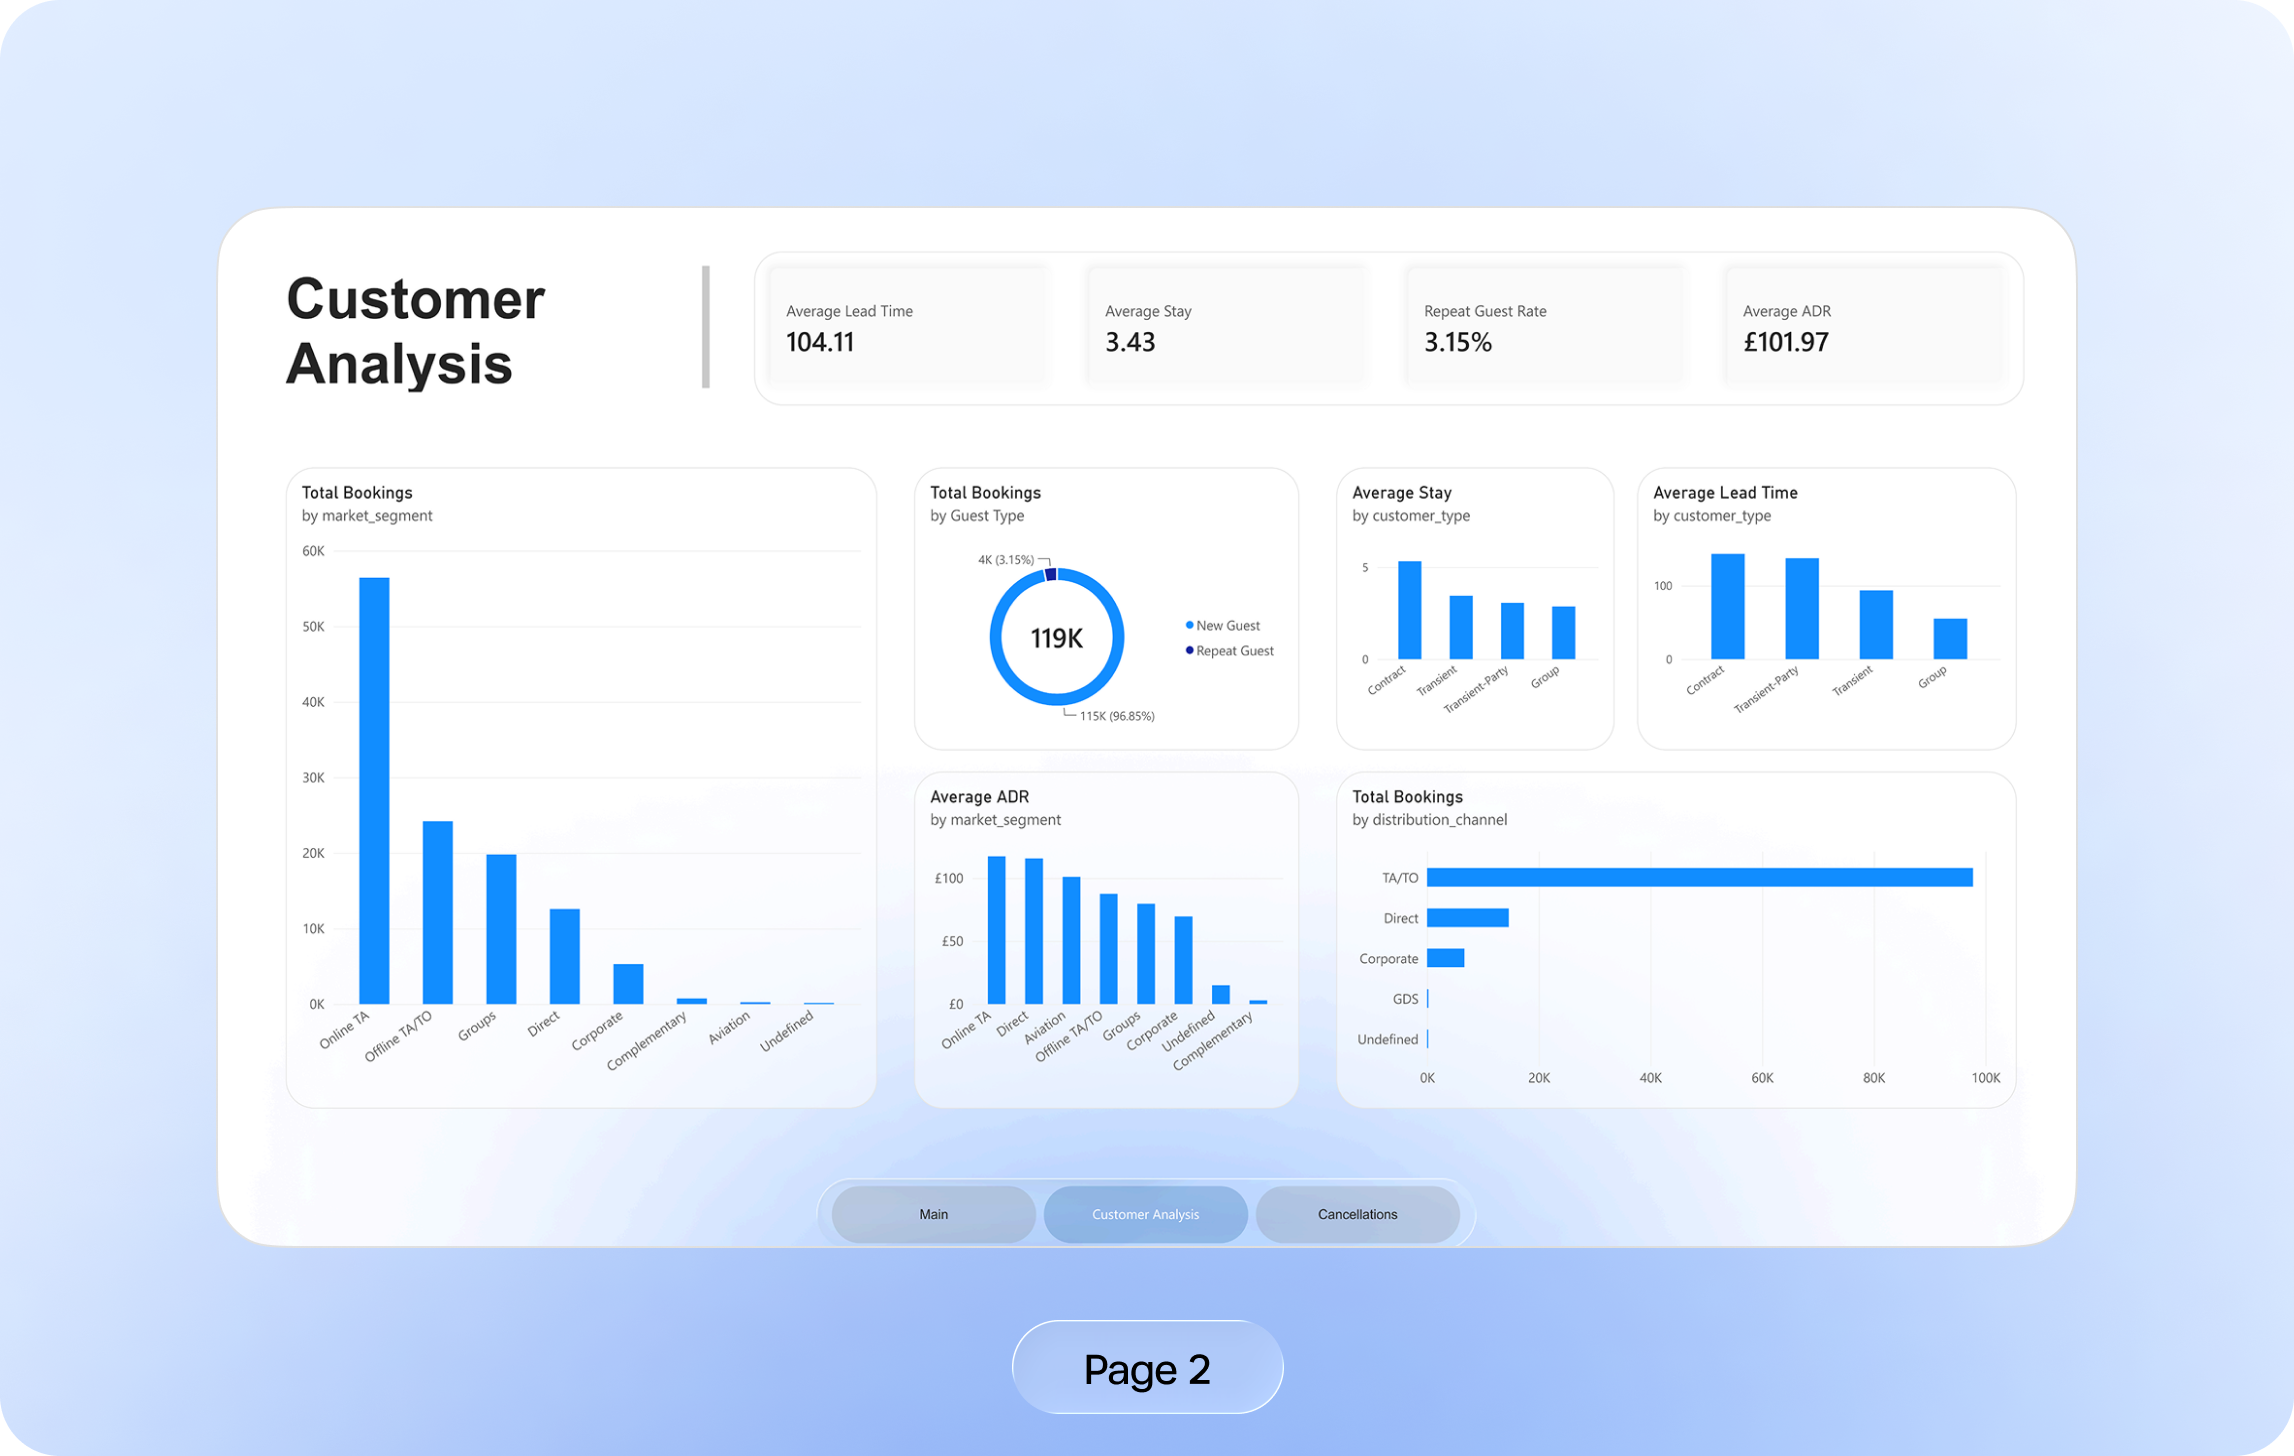

The page's visual inventory and layout, read from the dashboard file:
{"tool":"powerbi","page":{"name":"Customer Analysis","canvas":[1920,1080],"ordinal":1},"visuals":[{"type":"cardVisual","fields":{"Data":["public vw_hotel_analysis.Average Lead Time","public vw_hotel_analysis.Average Stay","public vw_hotel_analysis.Repeat Guest Rate","public vw_hotel_analysis.Average ADR"]},"box":[545,23.3,1341.7,158.3],"z":0},{"type":"textbox","box":[50,38.3,448.3,130],"z":1000},{"type":"lineClusteredColumnComboChart","fields":{"Category":["public vw_hotel_analysis.market_segment"],"Y":["public vw_hotel_analysis.Total Bookings"]},"box":[50,246.2,625,661.2],"z":2000},{"type":"donutChart","fields":{"Category":["public vw_hotel_analysis.Guest Type"],"Y":["public vw_hotel_analysis.Total Bookings"]},"box":[713.8,246.2,407.5,291.2],"z":3000},{"type":"lineClusteredColumnComboChart","fields":{"Category":["public vw_hotel_analysis.market_segment"],"Y":["public vw_hotel_analysis.Average ADR"]},"box":[713.8,560,407.5,347.5],"z":4000},{"type":"clusteredColumnChart","fields":{"Category":["public vw_hotel_analysis.customer_type"],"Y":["public vw_hotel_analysis.Average Stay"]},"box":[1160,246.2,293.8,291.2],"z":5000},{"type":"lineClusteredColumnComboChart","fields":{"Category":["public vw_hotel_analysis.customer_type"],"Y":["public vw_hotel_analysis.Average Lead Time"]},"box":[1477.5,246.2,401.2,291.2],"z":6000},{"type":"barChart","fields":{"Category":["public vw_hotel_analysis.distribution_channel"],"Y":["public vw_hotel_analysis.Total Bookings"]},"box":[1160,560,718.8,347.5],"z":7000},{"type":"pageNavigator","box":[627,988,666,59],"z":7001}]}

Visuals, with their boxes on the page's 1920x1080 design canvas (x1, y1, x2, y2). These are canvas units, not pixel positions in the 2294x1456 screenshot, which may show the page scaled, cropped or inside an application window:
cardVisual - public vw_hotel_analysis.Average Lead Time x public vw_hotel_analysis.Average Stay: select_region(545, 23, 1887, 182)
textbox: select_region(50, 38, 498, 168)
lineClusteredColumnComboChart - public vw_hotel_analysis.market_segment x public vw_hotel_analysis.Total Bookings: select_region(50, 246, 675, 907)
donutChart - public vw_hotel_analysis.Guest Type x public vw_hotel_analysis.Total Bookings: select_region(714, 246, 1121, 537)
lineClusteredColumnComboChart - public vw_hotel_analysis.market_segment x public vw_hotel_analysis.Average ADR: select_region(714, 560, 1121, 908)
clusteredColumnChart - public vw_hotel_analysis.customer_type x public vw_hotel_analysis.Average Stay: select_region(1160, 246, 1454, 537)
lineClusteredColumnComboChart - public vw_hotel_analysis.customer_type x public vw_hotel_analysis.Average Lead Time: select_region(1478, 246, 1879, 537)
barChart - public vw_hotel_analysis.distribution_channel x public vw_hotel_analysis.Total Bookings: select_region(1160, 560, 1879, 908)
pageNavigator: select_region(627, 988, 1293, 1047)
